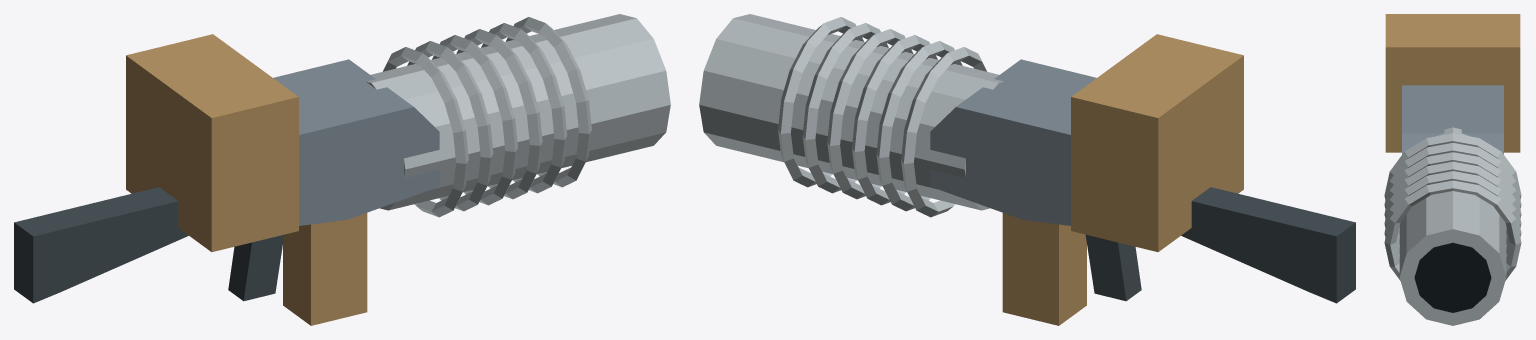
Rendered from w14-sun-eater.glb.
The picture shows the model from 3 angles, left to right: view 1: azimuth 30°, elevation 25°; view 2: azimuth 150°, elevation 25°; view 3: azimuth 270°, elevation 25°; orthographic projection. The views are drawn at different scales.
Parts seen in each view (by area): view 1: w14-sun-eater__rear_power_pack, w14-sun-eater__barrel, w14-sun-eater__receiver, w14-sun-eater__stock, w14-sun-eater__power_cell, w14-sun-eater__heat_fin_0, w14-sun-eater__heat_fin_1, w14-sun-eater__heat_fin_3, w14-sun-eater__heat_fin_2, w14-sun-eater__heat_fin_5, w14-sun-eater__grip, w14-sun-eater__heat_fin_4; view 2: w14-sun-eater__rear_power_pack, w14-sun-eater__barrel, w14-sun-eater__receiver, w14-sun-eater__stock, w14-sun-eater__power_cell, w14-sun-eater__heat_fin_0, w14-sun-eater__heat_fin_1, w14-sun-eater__heat_fin_3, w14-sun-eater__heat_fin_2, w14-sun-eater__heat_fin_5, w14-sun-eater__grip, w14-sun-eater__heat_fin_4; view 3: w14-sun-eater__rear_power_pack, w14-sun-eater__barrel, w14-sun-eater__receiver, w14-sun-eater__barrel_bore, w14-sun-eater__heat_fin_5, w14-sun-eater__heat_fin_4, w14-sun-eater__heat_fin_3, w14-sun-eater__heat_fin_2, w14-sun-eater__heat_fin_1, w14-sun-eater__heat_fin_0.
Boxes of the visible parts, bbox=[...] form: w14-sun-eater__rear_power_pack: bbox=[126, 34, 298, 251]; w14-sun-eater__barrel: bbox=[366, 14, 670, 210]; w14-sun-eater__receiver: bbox=[273, 59, 439, 225]; w14-sun-eater__stock: bbox=[14, 187, 188, 303]; w14-sun-eater__power_cell: bbox=[283, 213, 367, 325]; w14-sun-eater__heat_fin_0: bbox=[383, 47, 468, 217]; w14-sun-eater__heat_fin_1: bbox=[407, 41, 493, 211]; w14-sun-eater__heat_fin_3: bbox=[456, 29, 542, 199]; w14-sun-eater__heat_fin_2: bbox=[432, 35, 517, 205]; w14-sun-eater__heat_fin_5: bbox=[506, 17, 591, 187]; w14-sun-eater__grip: bbox=[228, 234, 284, 301]; w14-sun-eater__heat_fin_4: bbox=[481, 23, 567, 193]; w14-sun-eater__rear_power_pack: bbox=[1071, 34, 1243, 251]; w14-sun-eater__barrel: bbox=[699, 14, 1003, 210]; w14-sun-eater__receiver: bbox=[930, 59, 1096, 225]; w14-sun-eater__stock: bbox=[1181, 187, 1355, 303]; w14-sun-eater__power_cell: bbox=[1002, 213, 1086, 325]; w14-sun-eater__heat_fin_0: bbox=[901, 47, 986, 217]; w14-sun-eater__heat_fin_1: bbox=[876, 41, 962, 211]; w14-sun-eater__heat_fin_3: bbox=[827, 29, 913, 199]; w14-sun-eater__heat_fin_2: bbox=[852, 35, 937, 205]; w14-sun-eater__heat_fin_5: bbox=[778, 17, 863, 187]; w14-sun-eater__grip: bbox=[1085, 234, 1141, 301]; w14-sun-eater__heat_fin_4: bbox=[802, 23, 888, 193]; w14-sun-eater__rear_power_pack: bbox=[1385, 14, 1520, 152]; w14-sun-eater__barrel: bbox=[1399, 127, 1506, 325]; w14-sun-eater__receiver: bbox=[1402, 85, 1503, 154]; w14-sun-eater__barrel_bore: bbox=[1414, 242, 1491, 312]; w14-sun-eater__heat_fin_5: bbox=[1384, 180, 1521, 280]; w14-sun-eater__heat_fin_4: bbox=[1384, 171, 1521, 257]; w14-sun-eater__heat_fin_3: bbox=[1384, 161, 1521, 248]; w14-sun-eater__heat_fin_2: bbox=[1384, 152, 1521, 238]; w14-sun-eater__heat_fin_1: bbox=[1384, 143, 1521, 229]; w14-sun-eater__heat_fin_0: bbox=[1384, 133, 1521, 199].
Bounding box in the file's own units: 1.2 × 0.485 × 0.295.
